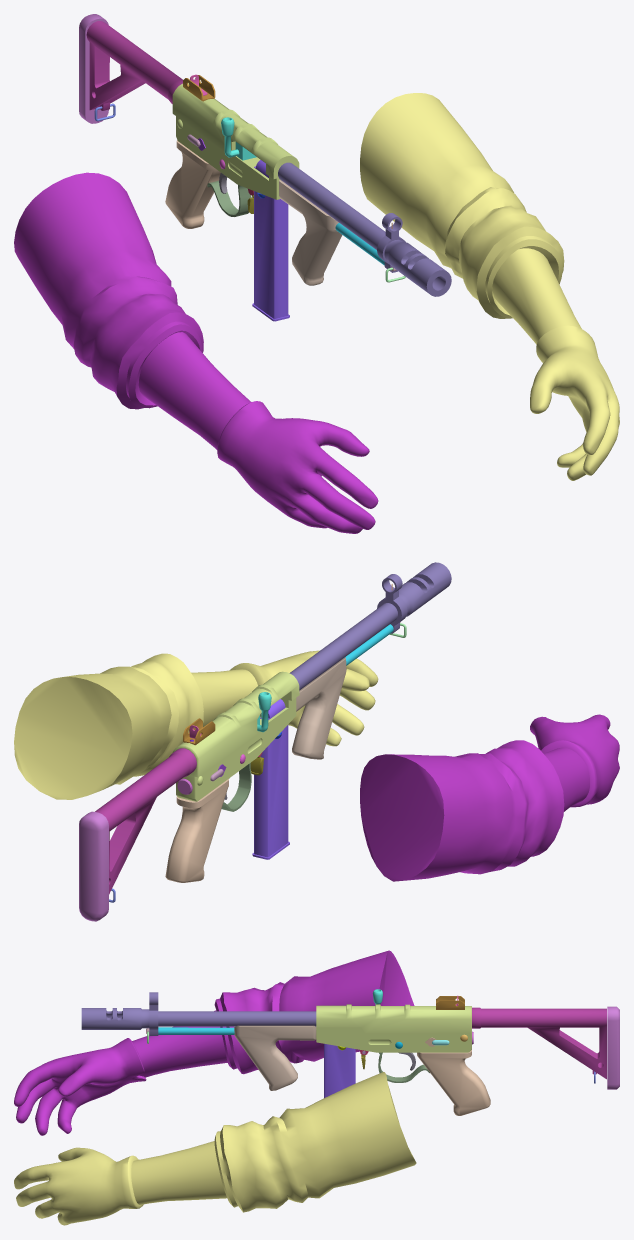
3 renders of one model, top to bottom at view 1: azimuth 30°, elevation 25°; view 2: azimuth 150°, elevation 25°; view 3: azimuth 270°, elevation 25°, orthographic. The views are drawn at different scales.
Visible parts, largest first — view 1: Object_7.001, Object_7, split_parent_13, base_smg_0.003, base_smg_0.004, clip_smg_0, base_smg_0.002, base_smg_0, base_smg_0.069, split_parent_28; view 2: Object_7.001, Object_7, split_parent_13, base_smg_0.003, base_smg_0.004, clip_smg_0, base_smg_0, base_smg_0.002, base_smg_0.069, split_parent_28, base_smg_0.127; view 3: Object_7, Object_7.001, split_parent_13, base_smg_0.003, base_smg_0.004, base_smg_0.002, base_smg_0, clip_smg_0, base_smg_0.069, base_smg_0.127, base_smg_0.043.
Part boxes in pixels (<box>): Object_7.001: <box>14,172,378,533</box>; Object_7: <box>360,93,619,480</box>; split_parent_13: <box>172,83,299,199</box>; base_smg_0.003: <box>278,162,451,296</box>; base_smg_0.004: <box>86,21,183,110</box>; clip_smg_0: <box>252,160,289,321</box>; base_smg_0.002: <box>279,180,342,285</box>; base_smg_0: <box>165,140,220,228</box>; base_smg_0.069: <box>79,14,108,123</box>; split_parent_28: <box>207,180,251,216</box>; Object_7.001: <box>360,714,619,881</box>; Object_7: <box>14,650,378,799</box>; split_parent_13: <box>172,671,299,801</box>; base_smg_0.003: <box>289,562,451,690</box>; base_smg_0.004: <box>95,748,196,894</box>; clip_smg_0: <box>252,699,289,859</box>; base_smg_0: <box>165,779,228,882</box>; base_smg_0.002: <box>292,657,346,759</box>; base_smg_0.069: <box>79,811,108,921</box>; split_parent_28: <box>221,762,251,811</box>; base_smg_0.127: <box>344,624,393,665</box>; Object_7: <box>14,1072,416,1225</box>; Object_7.001: <box>14,950,414,1135</box>; split_parent_13: <box>316,1004,471,1052</box>; base_smg_0.003: <box>81,992,316,1035</box>; base_smg_0.004: <box>472,1007,606,1079</box>; base_smg_0.002: <box>234,1025,316,1090</box>; base_smg_0: <box>417,1050,490,1115</box>; clip_smg_0: <box>324,1043,355,1097</box>; base_smg_0.069: <box>607,1006,619,1089</box>; base_smg_0.127: <box>158,1027,234,1034</box>; base_smg_0.043: <box>436,996,464,1009</box>.
Bounding box in the file's own units: 0.6571 × 0.3353 × 1.
